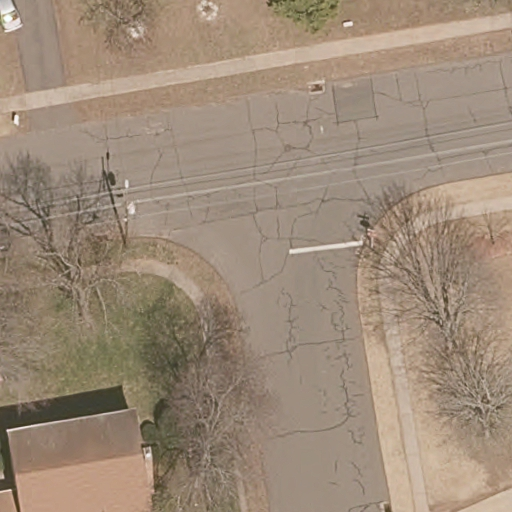DT: (119, 178, 136, 249)
